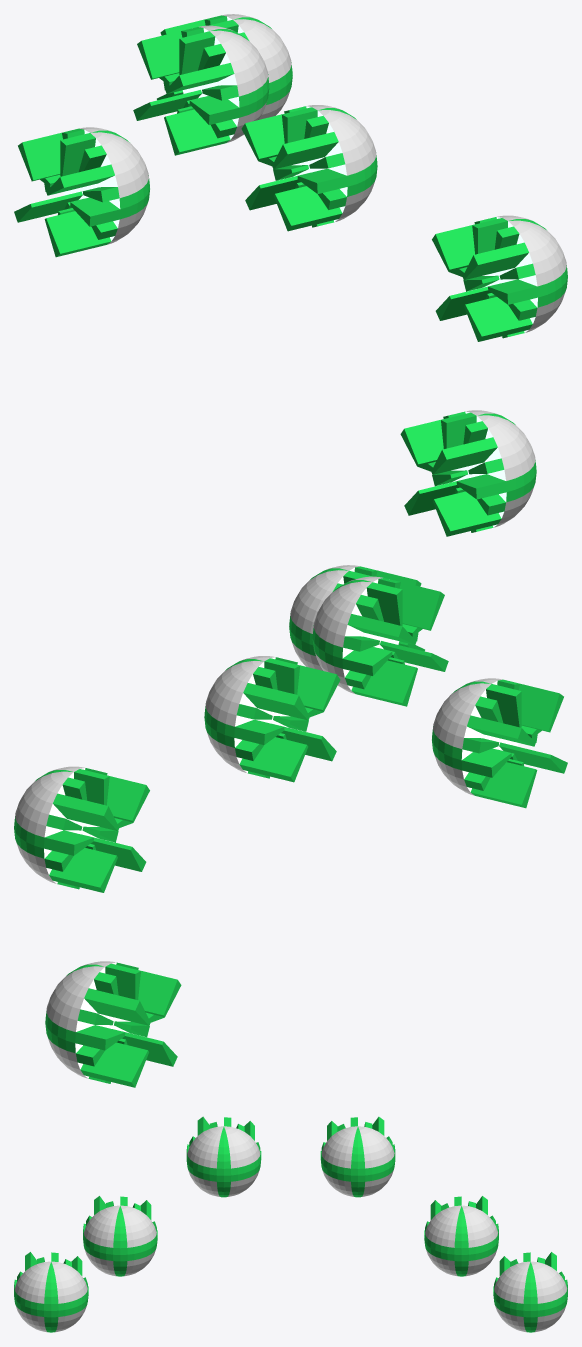
File: BattleSpheres.fbx
The picture shows the model from 3 angles, top to bottom: view 1: azimuth 30°, elevation 25°; view 2: azimuth 150°, elevation 25°; view 3: azimuth 270°, elevation 25°; orthographic projection. The views are drawn at different scales.
Visible parts, largest first — view 1: Sphere.001, Sphere, Sphere.002, Sphere.005, Sphere.003, Sphere.004; view 2: Sphere.005, Sphere.004, Sphere.003, Sphere.001, Sphere.002, Sphere; view 3: Sphere.002, Sphere.003, Sphere, Sphere.004, Sphere.001, Sphere.005.
Part boxes in pixels (<box>): Sphere.001: <box>400,410,536,536</box>; Sphere: <box>432,215,567,341</box>; Sphere.002: <box>241,105,377,231</box>; Sphere.005: <box>14,127,149,257</box>; Sphere.003: <box>133,25,269,155</box>; Sphere.004: <box>157,14,292,119</box>; Sphere.005: <box>45,961,181,1087</box>; Sphere.004: <box>14,766,149,892</box>; Sphere.003: <box>204,656,340,782</box>; Sphere.001: <box>432,678,567,808</box>; Sphere.002: <box>312,576,448,706</box>; Sphere: <box>289,565,424,670</box>; Sphere.002: <box>186,1116,261,1197</box>; Sphere.003: <box>320,1116,395,1197</box>; Sphere: <box>83,1196,157,1276</box>; Sphere.004: <box>424,1196,498,1276</box>; Sphere.001: <box>14,1252,88,1332</box>; Sphere.005: <box>493,1252,567,1332</box>.
Size of the model in its own units: 123 by 177 by 453.
